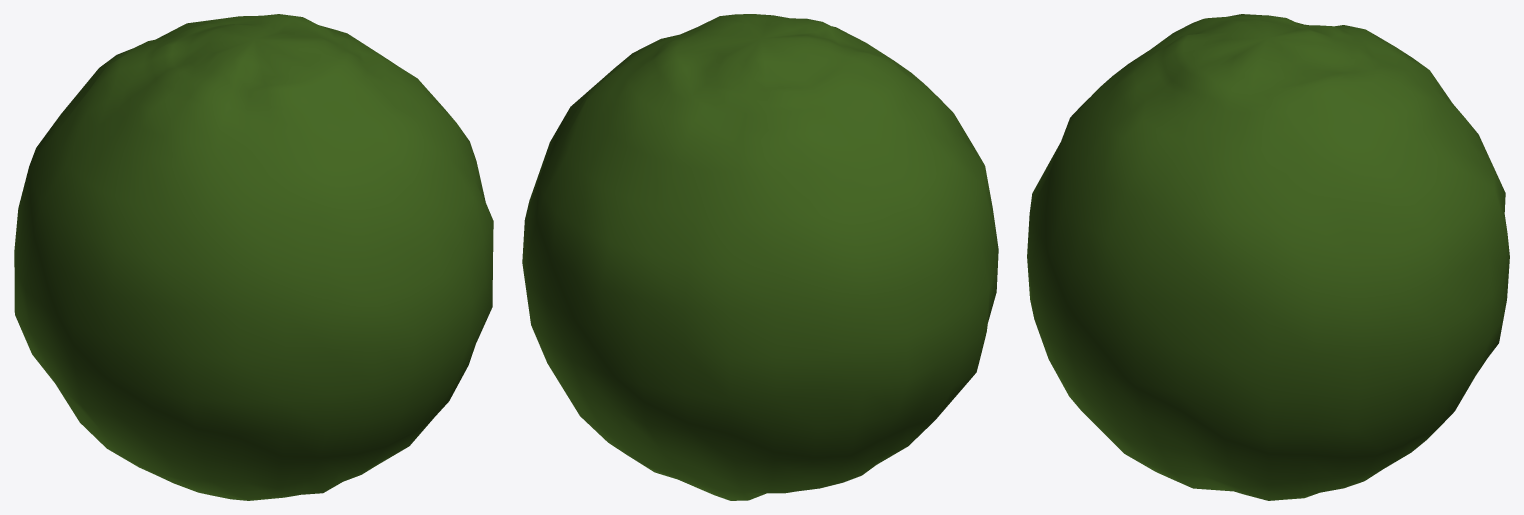
File: Earth.fbx
3 views of the same model, side by side, from view 1: azimuth 30°, elevation 25°; view 2: azimuth 150°, elevation 25°; view 3: azimuth 270°, elevation 25° (orthographic).
Visible parts, largest first — view 1: Sphere; view 2: Sphere; view 3: Sphere.
Boxes of the visible parts, x1,y1,x2,y2 form: Sphere: (14,14,493,500); Sphere: (522,14,998,500); Sphere: (1027,14,1509,500).
Size of the model in its own units: 100007 by 100007 by 100007.
